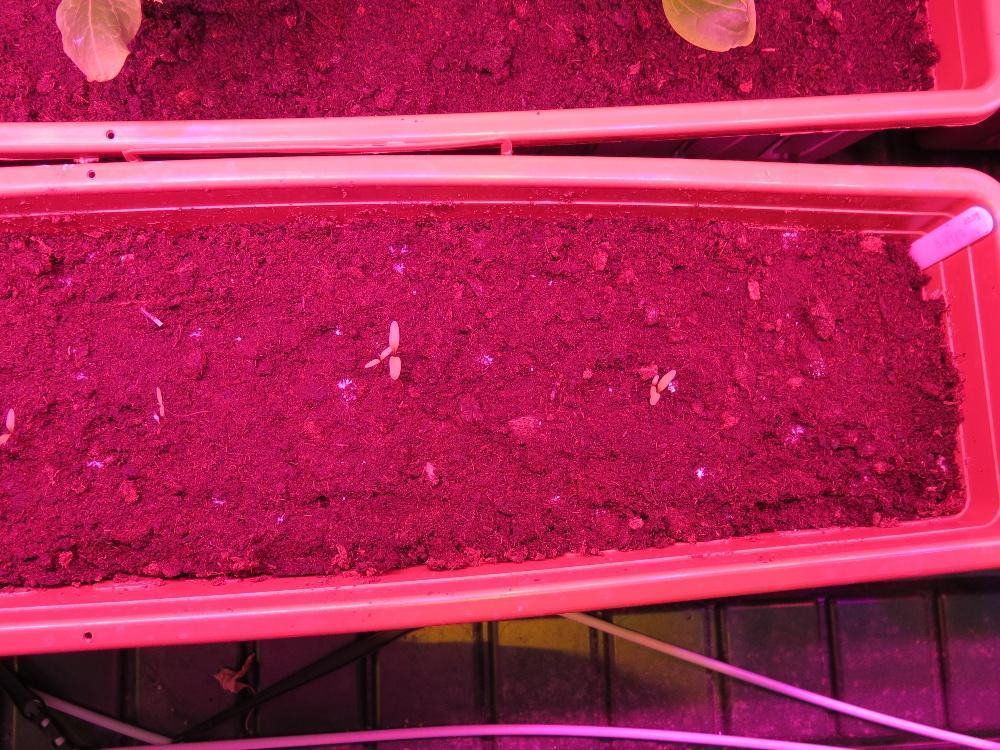weed: (153, 384, 165, 418)
